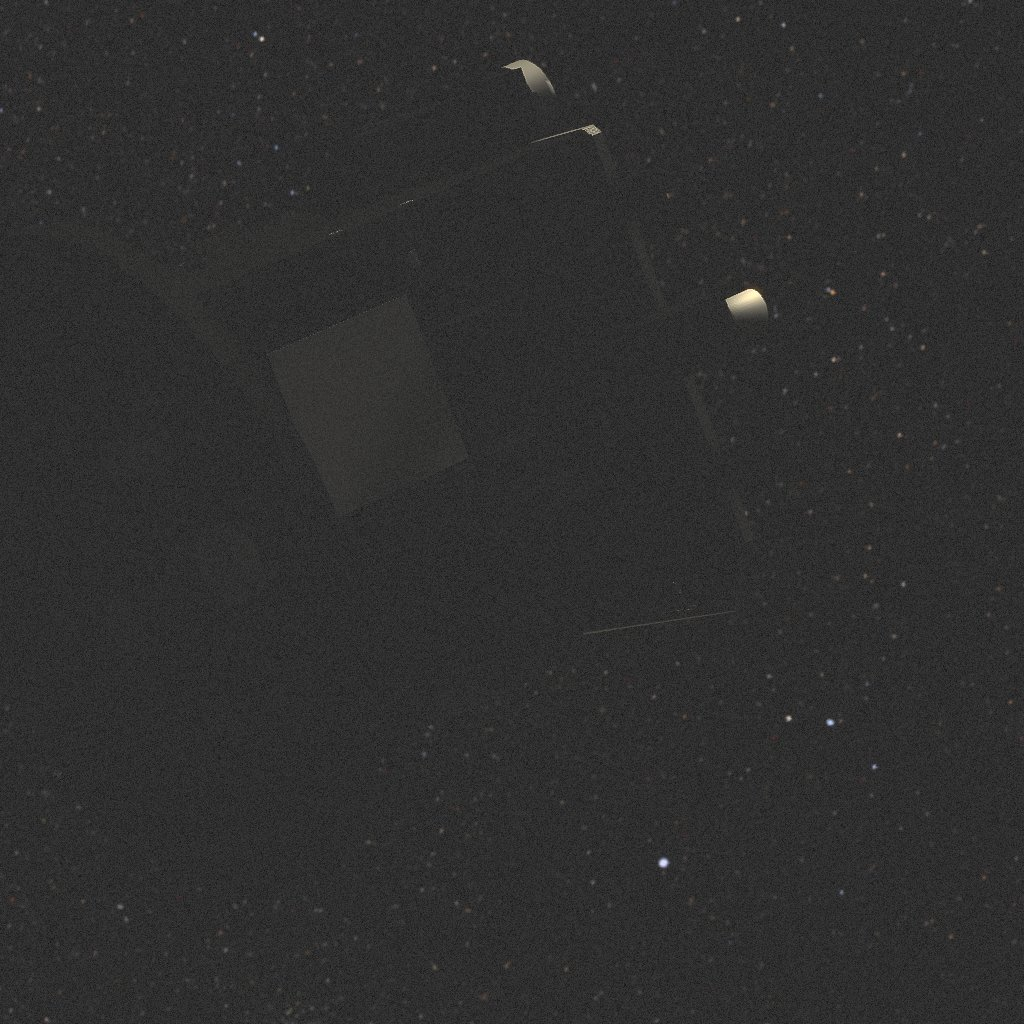proba_3_ocs: (0, 60, 771, 897)
